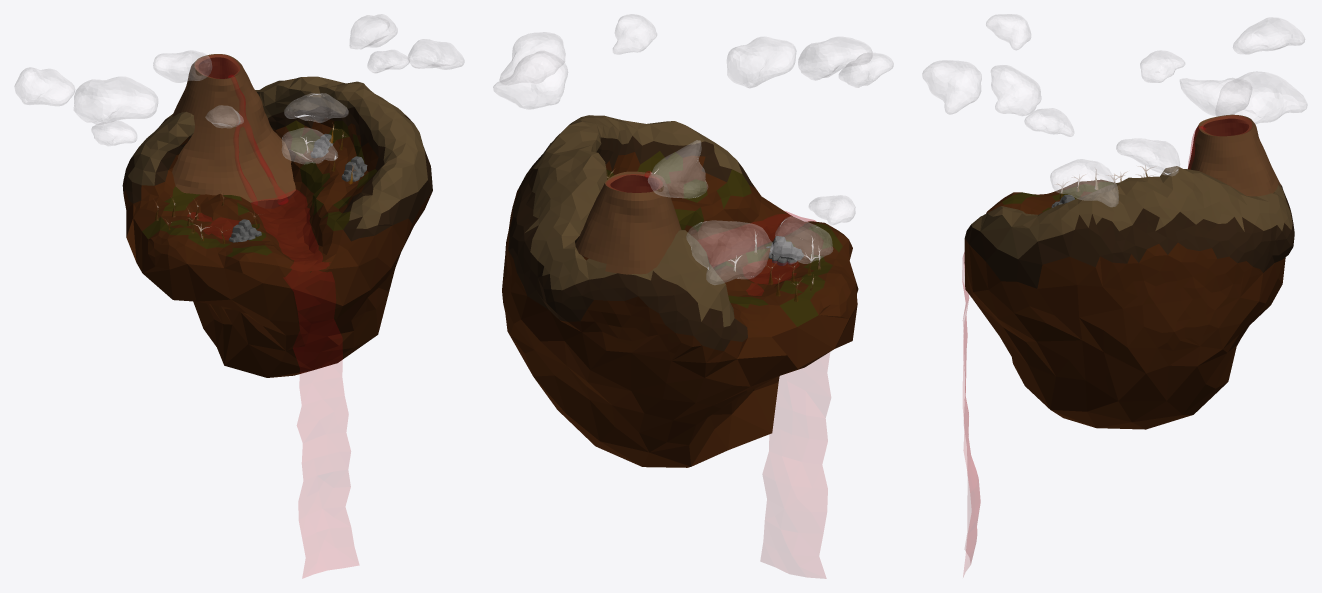
Rendered from Llava1.fbx.
The picture shows the model from 3 angles, left to right: view 1: azimuth 30°, elevation 25°; view 2: azimuth 150°, elevation 25°; view 3: azimuth 270°, elevation 25°; orthographic projection. The views are drawn at different scales.
Visible parts, largest first — view 1: base_world, water_mesh, Cylinder, cloude_set_001, cloude_set_001.001, Cube, Plane; view 2: base_world, cloude_set_001, water_mesh, Cylinder, cloude_set_001.001, Rock.001, Plane; view 3: base_world, cloude_set_001, cloude_set_001.001, Cylinder, water_mesh, Plane.
Part boxes in pixels (x1,y1,x2,y2): base_world: (122, 76, 432, 377); water_mesh: (188, 190, 358, 577); Cylinder: (172, 54, 308, 208); cloude_set_001: (14, 14, 464, 145); cloude_set_001.001: (205, 93, 348, 164); Cube: (228, 74, 288, 204); Plane: (208, 55, 239, 78); base_world: (502, 115, 858, 467); cloude_set_001: (493, 14, 855, 284); water_mesh: (746, 211, 830, 578); Cylinder: (575, 171, 681, 274); cloude_set_001.001: (727, 36, 893, 88); Rock.001: (766, 236, 803, 265); Plane: (606, 174, 652, 192); base_world: (964, 166, 1294, 429); cloude_set_001: (1024, 17, 1307, 206); cloude_set_001.001: (922, 14, 1041, 115); Cylinder: (1188, 114, 1281, 196); water_mesh: (962, 252, 980, 576); Plane: (1201, 116, 1251, 135).
Size of the model in its own units: 2612 by 3345 by 2325.
